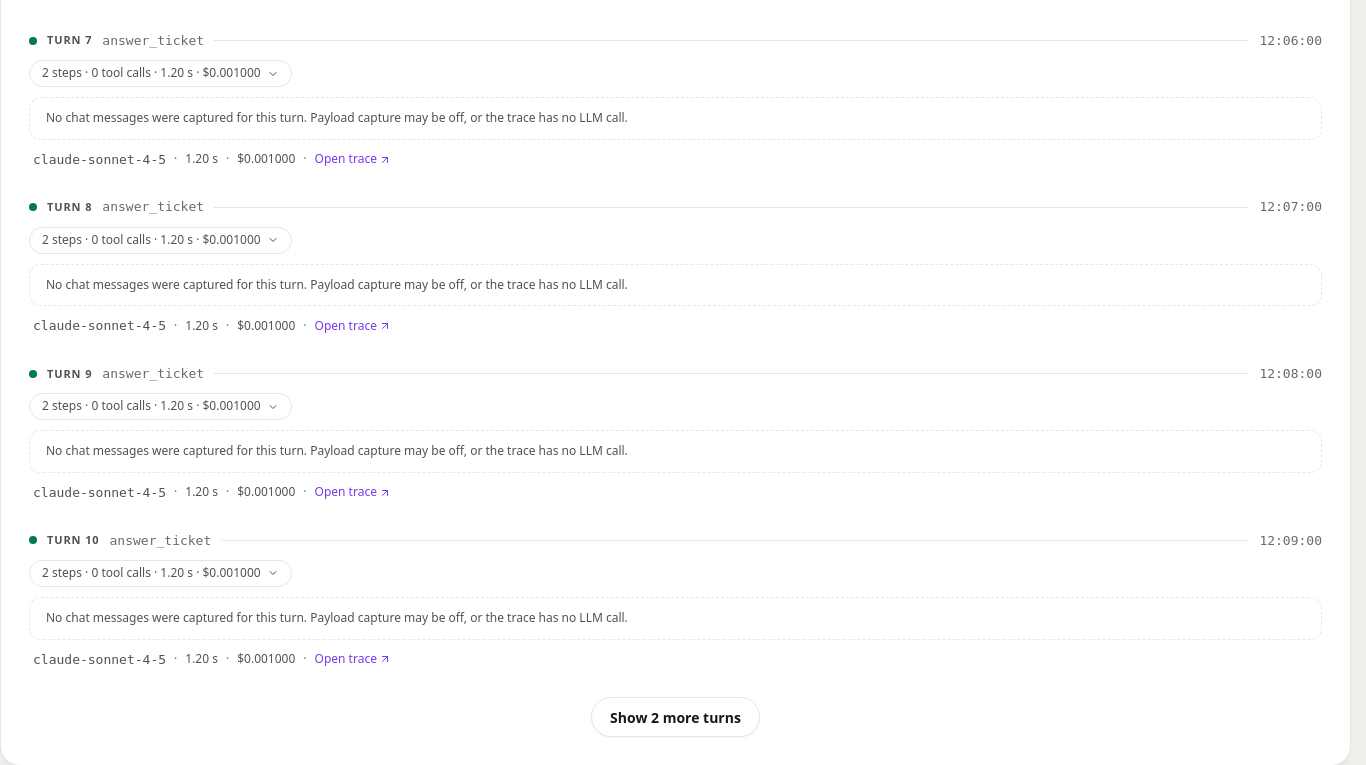
Test: SessionConversation › reveals long sessions ten turns at a time
The width and height of the screenshot is (1366, 765).
(page scrolled)
Click the button "Show 2 more turns": (676, 717) [591, 697, 760, 737]
(page scrolled)
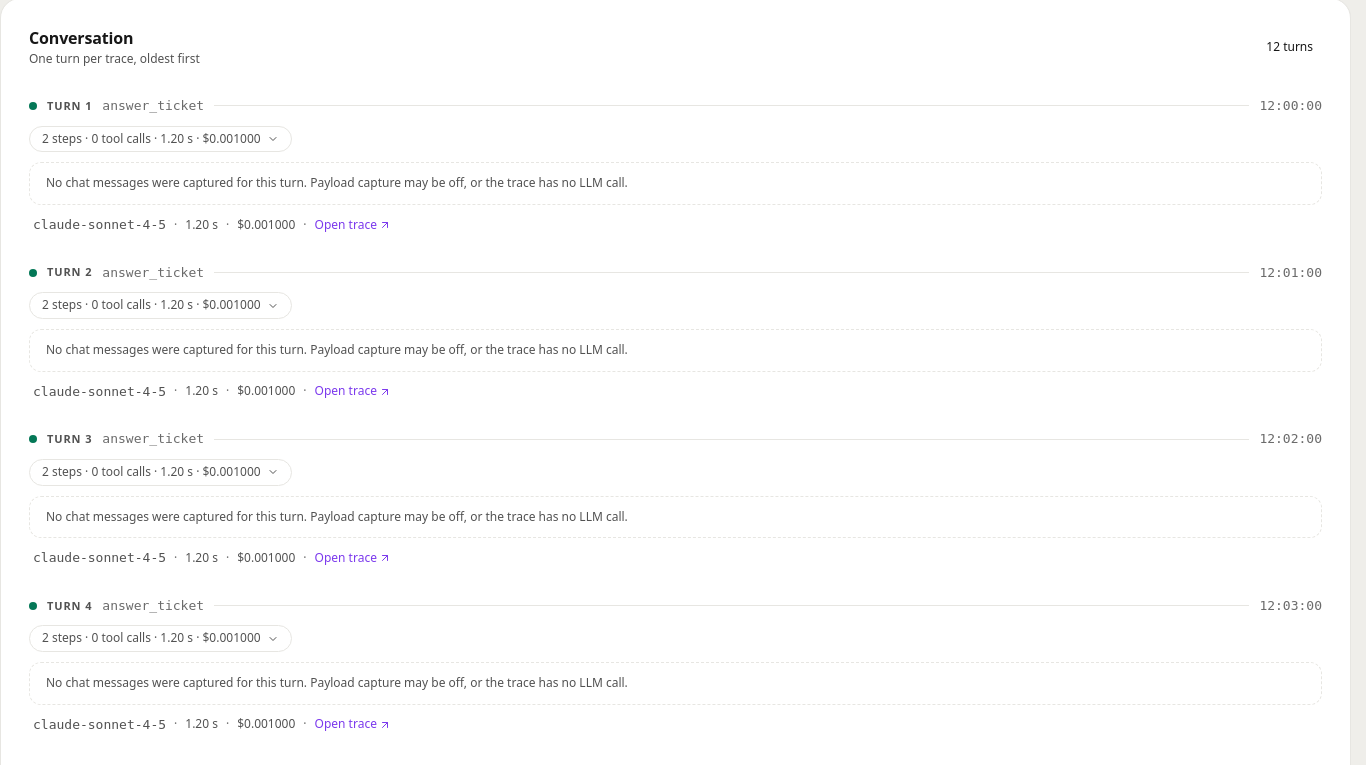
Check: the text "12 turns" is shown, box [1266, 38, 1313, 55]
Check: the button "more turn" is gone
